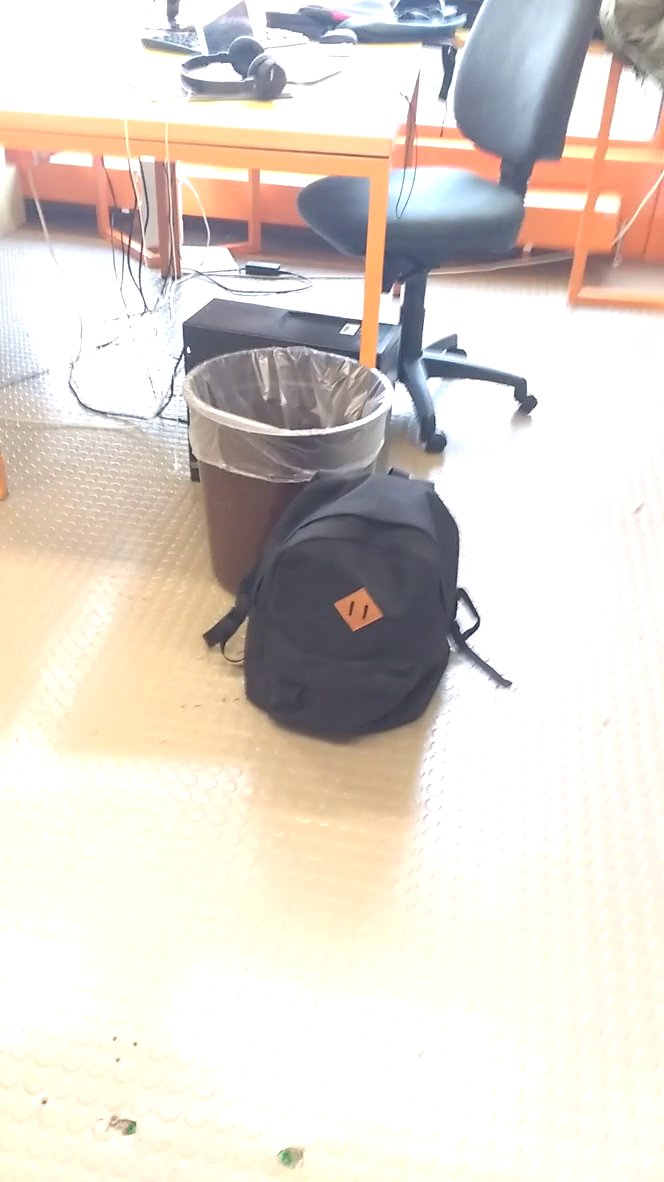bag: (204, 458, 490, 744)
bin: (176, 336, 405, 516)
chair: (284, 1, 604, 456)
